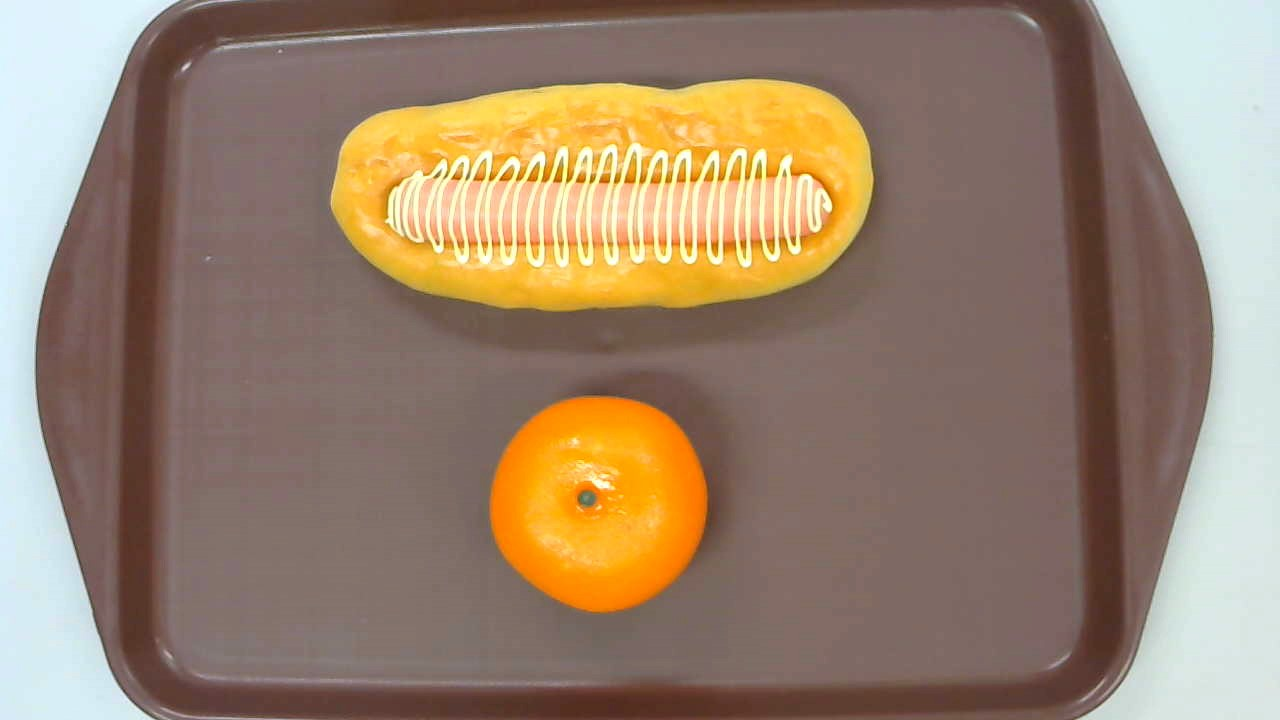hot dog: (329, 78, 874, 313)
orange: (488, 394, 709, 615)
